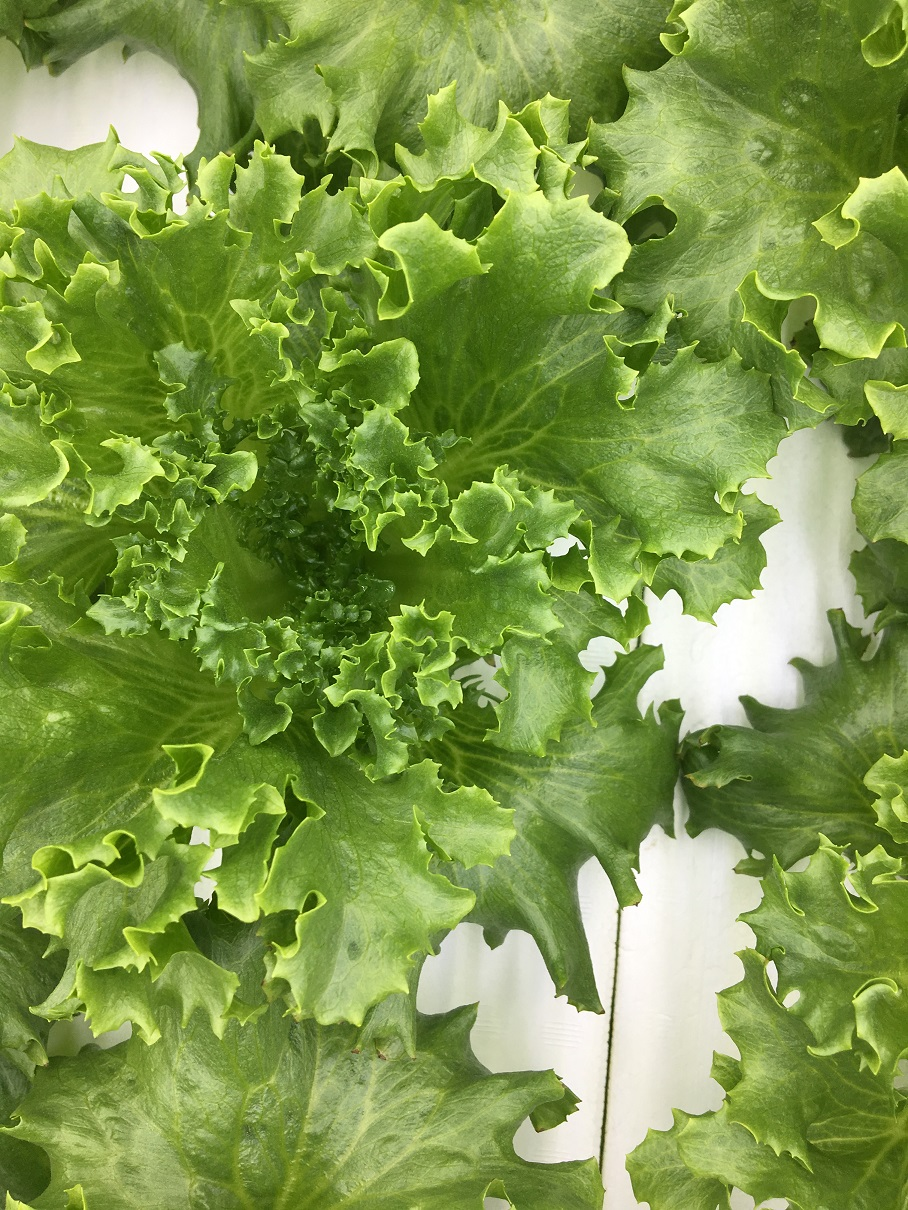tipburn: (588, 993, 622, 1032), (366, 1039, 399, 1074), (622, 885, 654, 920), (400, 1044, 432, 1076), (338, 1035, 369, 1067), (679, 767, 711, 798), (479, 649, 506, 676), (529, 1121, 552, 1146), (180, 186, 203, 211), (692, 731, 713, 751), (557, 1076, 578, 1096)
